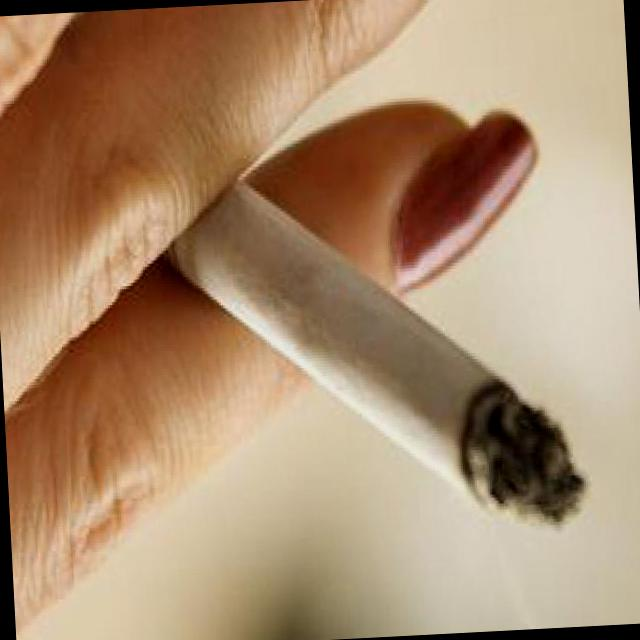cigarette: (148, 139, 586, 548)
